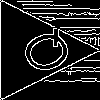Q: (8, 25, 78, 83)
